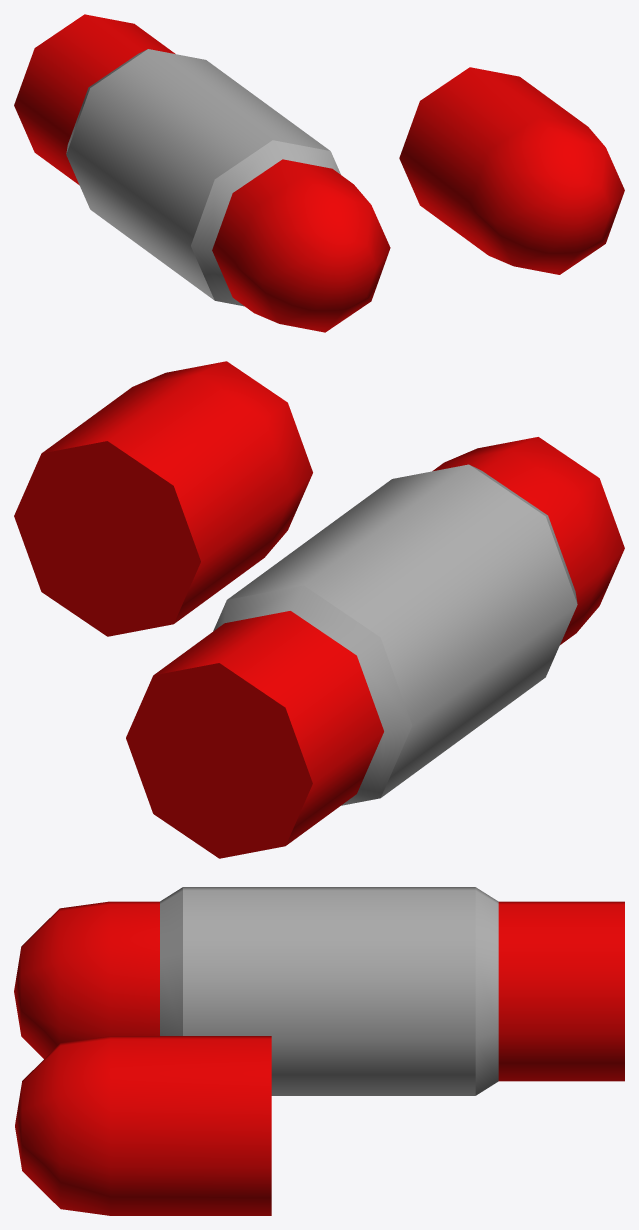
The model's file is cable_001.fbx.
3 renders of one model, top to bottom at view 1: azimuth 30°, elevation 25°; view 2: azimuth 150°, elevation 25°; view 3: azimuth 270°, elevation 25°, orthographic. The views are drawn at different scales.
Visible parts, largest first — view 1: CableMinus_001, CableNomal_001; view 2: CableMinus_001, CableNomal_001; view 3: CableMinus_001, CableNomal_001.
Boxes of the visible parts, x1,y1,x2,y2 form: CableMinus_001: (14,14,390,332); CableNomal_001: (399,67,624,274); CableMinus_001: (126,437,624,858); CableNomal_001: (14,361,312,636); CableMinus_001: (14,887,624,1095); CableNomal_001: (15,1036,271,1215).
Bounding box in the file's own units: 41.16 × 17.43 × 47.88.
